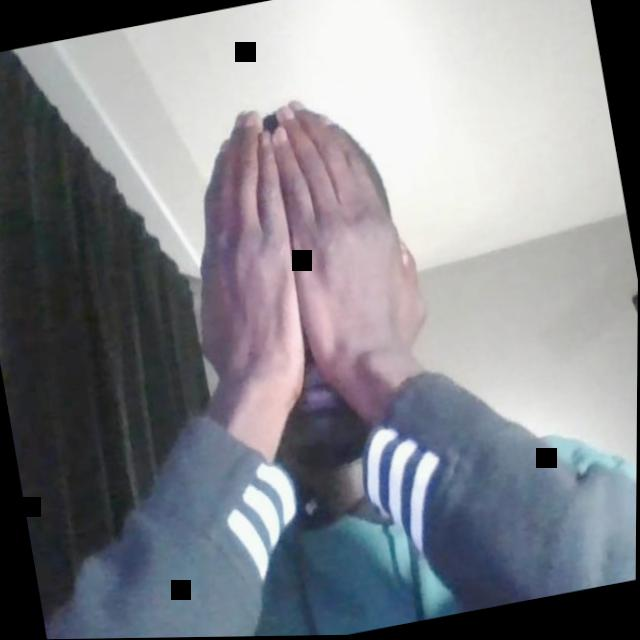NO-Mask: (268, 337, 383, 481)
